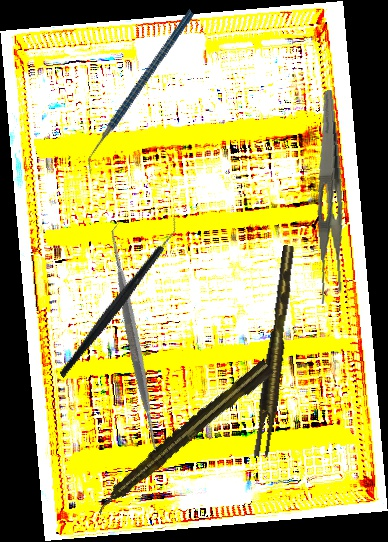Chopper: (20, 214, 217, 378), (46, 9, 235, 175)
Dressing Forceps: (299, 89, 353, 305)
Handpiece: (89, 357, 276, 519)
Spatula Surgical: (14, 220, 254, 460)
Tissue Forceps: (246, 244, 306, 459)
